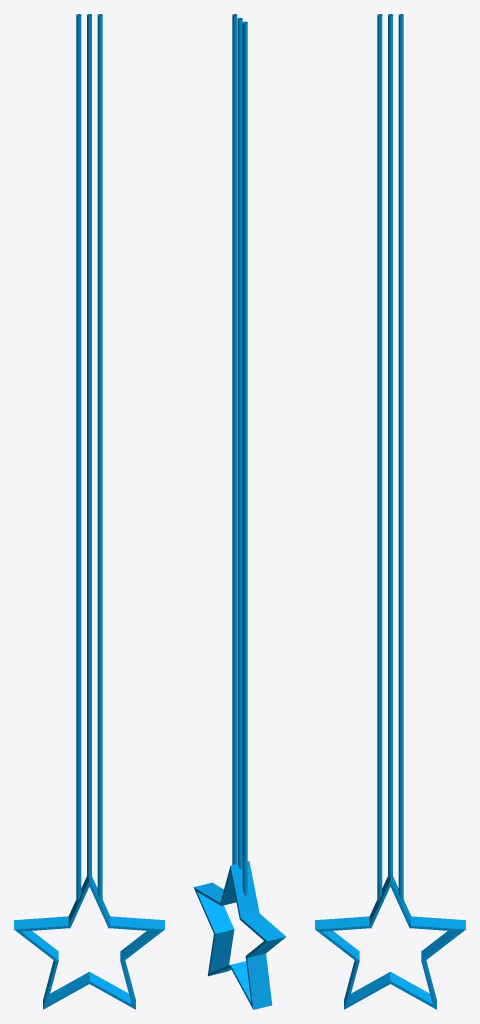
File: cutter4_star.fbx
The picture shows the model from 3 angles, left to right: view 1: azimuth 90°, elevation 25°; view 2: azimuth 210°, elevation 25°; view 3: azimuth 270°, elevation 25°; orthographic projection.
Visible parts, largest first — view 1: Cutter4_Star; view 2: Cutter4_Star; view 3: Cutter4_Star.
Boxes of the visible parts, box(x1,y1,x2,y2) form: Cutter4_Star: box(14, 14, 164, 1009); Cutter4_Star: box(193, 14, 285, 1009); Cutter4_Star: box(315, 14, 465, 1009).
Bounding box in the file's own units: 16.77 × 823 × 114.
